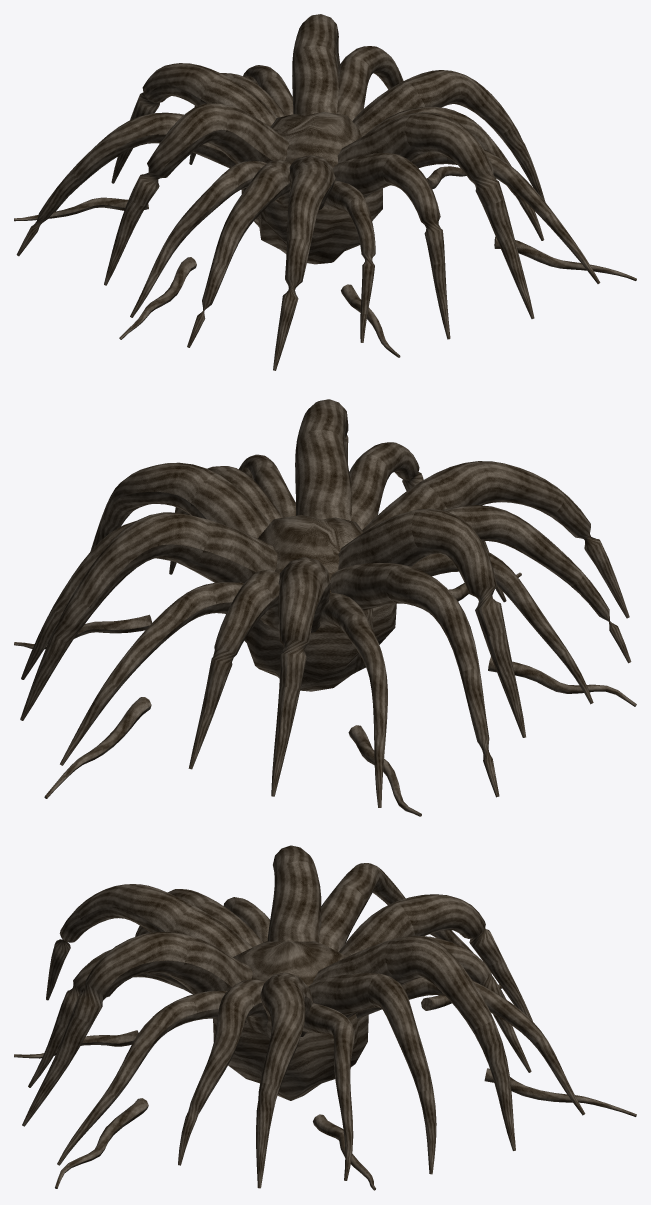
The model's file is ROOTS_local.glb.
3 renders of one model, top to bottom at view 1: azimuth 30°, elevation 25°; view 2: azimuth 150°, elevation 25°; view 3: azimuth 270°, elevation 25°, orthographic. The views are drawn at different scales.
Parts seen in each view (by area): view 1: 08_ExposedRootSnarl_1p8m_ExposedBranch_14_MESH, 08_ExposedRootSnarl_1p8m_ExposedBranch_08_MESH, 08_ExposedRootSnarl_1p8m_HeartwoodCore_MESH, 08_ExposedRootSnarl_1p8m_ExposedBranch_17_MESH, 08_ExposedRootSnarl_1p8m_ExposedBranch_13_MESH, 08_ExposedRootSnarl_1p8m_ExposedBranch_11_MESH, 08_ExposedRootSnarl_1p8m_ExposedBranch_05_MESH, 08_ExposedRootSnarl_1p8m_ExposedBranch_07_MESH, 08_ExposedRootSnarl_1p8m_ExposedBranch_02_MESH, 08_ExposedRootSnarl_1p8m_ExposedBranch_10_MESH, 08_ExposedRootSnarl_1p8m_ExposedBranch_09_MESH, 08_ExposedRootSnarl_1p8m_ExposedBranch_01_MESH (+9 smaller); view 2: 08_ExposedRootSnarl_1p8m_ExposedBranch_02_MESH, 08_ExposedRootSnarl_1p8m_ExposedBranch_08_MESH, 08_ExposedRootSnarl_1p8m_HeartwoodCore_MESH, 08_ExposedRootSnarl_1p8m_ExposedBranch_11_MESH, 08_ExposedRootSnarl_1p8m_ExposedBranch_07_MESH, 08_ExposedRootSnarl_1p8m_ExposedBranch_17_MESH, 08_ExposedRootSnarl_1p8m_ExposedBranch_05_MESH, 08_ExposedRootSnarl_1p8m_ExposedBranch_14_MESH, 08_ExposedRootSnarl_1p8m_ExposedBranch_04_MESH, 08_ExposedRootSnarl_1p8m_ExposedBranch_10_MESH, 08_ExposedRootSnarl_1p8m_ExposedBranch_03_MESH, 08_ExposedRootSnarl_1p8m_ExposedBranch_06_MESH (+9 smaller); view 3: 08_ExposedRootSnarl_1p8m_ExposedBranch_14_MESH, 08_ExposedRootSnarl_1p8m_ExposedBranch_02_MESH, 08_ExposedRootSnarl_1p8m_HeartwoodCore_MESH, 08_ExposedRootSnarl_1p8m_ExposedBranch_11_MESH, 08_ExposedRootSnarl_1p8m_ExposedBranch_05_MESH, 08_ExposedRootSnarl_1p8m_ExposedBranch_01_MESH, 08_ExposedRootSnarl_1p8m_ExposedBranch_17_MESH, 08_ExposedRootSnarl_1p8m_ExposedBranch_08_MESH, 08_ExposedRootSnarl_1p8m_ExposedBranch_16_MESH, 08_ExposedRootSnarl_1p8m_ExposedBranch_15_MESH, 08_ExposedRootSnarl_1p8m_ExposedBranch_07_MESH, 08_ExposedRootSnarl_1p8m_ExposedBranch_00_MESH (+9 smaller).
Boxes of the visible parts, box(x1,y1,x2,y2) form: 08_ExposedRootSnarl_1p8m_ExposedBranch_14_MESH: box(337, 112, 534, 318); 08_ExposedRootSnarl_1p8m_ExposedBranch_08_MESH: box(104, 103, 289, 285); 08_ExposedRootSnarl_1p8m_HeartwoodCore_MESH: box(241, 112, 382, 264); 08_ExposedRootSnarl_1p8m_ExposedBranch_17_MESH: box(352, 70, 545, 202); 08_ExposedRootSnarl_1p8m_ExposedBranch_13_MESH: box(333, 153, 450, 339); 08_ExposedRootSnarl_1p8m_ExposedBranch_11_MESH: box(273, 155, 335, 370); 08_ExposedRootSnarl_1p8m_ExposedBranch_05_MESH: box(111, 63, 278, 183); 08_ExposedRootSnarl_1p8m_ExposedBranch_07_MESH: box(16, 112, 235, 256); 08_ExposedRootSnarl_1p8m_ExposedBranch_02_MESH: box(292, 14, 339, 115); 08_ExposedRootSnarl_1p8m_ExposedBranch_10_MESH: box(187, 160, 291, 347); 08_ExposedRootSnarl_1p8m_ExposedBranch_09_MESH: box(130, 161, 266, 317); 08_ExposedRootSnarl_1p8m_ExposedBranch_01_MESH: box(337, 46, 403, 120); 08_ExposedRootSnarl_1p8m_ExposedBranch_02_MESH: box(20, 512, 277, 720); 08_ExposedRootSnarl_1p8m_ExposedBranch_08_MESH: box(338, 508, 525, 737); 08_ExposedRootSnarl_1p8m_HeartwoodCore_MESH: box(244, 515, 396, 691); 08_ExposedRootSnarl_1p8m_ExposedBranch_11_MESH: box(362, 461, 629, 618); 08_ExposedRootSnarl_1p8m_ExposedBranch_07_MESH: box(330, 563, 499, 797); 08_ExposedRootSnarl_1p8m_ExposedBranch_17_MESH: box(90, 462, 270, 551); 08_ExposedRootSnarl_1p8m_ExposedBranch_05_MESH: box(271, 557, 330, 796); 08_ExposedRootSnarl_1p8m_ExposedBranch_14_MESH: box(295, 399, 352, 520); 08_ExposedRootSnarl_1p8m_ExposedBranch_04_MESH: box(188, 569, 279, 769); 08_ExposedRootSnarl_1p8m_ExposedBranch_10_MESH: box(443, 505, 631, 663); 08_ExposedRootSnarl_1p8m_ExposedBranch_03_MESH: box(60, 582, 243, 765); 08_ExposedRootSnarl_1p8m_ExposedBranch_06_MESH: box(319, 593, 387, 807); 08_ExposedRootSnarl_1p8m_ExposedBranch_14_MESH: box(22, 931, 252, 1126); 08_ExposedRootSnarl_1p8m_ExposedBranch_02_MESH: box(313, 935, 515, 1150); 08_ExposedRootSnarl_1p8m_HeartwoodCore_MESH: box(213, 941, 368, 1100); 08_ExposedRootSnarl_1p8m_ExposedBranch_11_MESH: box(46, 884, 252, 1000); 08_ExposedRootSnarl_1p8m_ExposedBranch_05_MESH: box(339, 894, 532, 1021); 08_ExposedRootSnarl_1p8m_ExposedBranch_01_MESH: box(308, 973, 436, 1174); 08_ExposedRootSnarl_1p8m_ExposedBranch_17_MESH: box(256, 972, 313, 1188); 08_ExposedRootSnarl_1p8m_ExposedBranch_08_MESH: box(267, 845, 321, 942); 08_ExposedRootSnarl_1p8m_ExposedBranch_16_MESH: box(178, 979, 268, 1165); 08_ExposedRootSnarl_1p8m_ExposedBranch_15_MESH: box(57, 991, 246, 1165); 08_ExposedRootSnarl_1p8m_ExposedBranch_07_MESH: box(319, 863, 424, 951); 08_ExposedRootSnarl_1p8m_ExposedBranch_00_MESH: box(302, 1003, 354, 1180).
Bounding box in the file's own units: 1.73 × 0.6413 × 1.96.
1 material, 1 textured.
